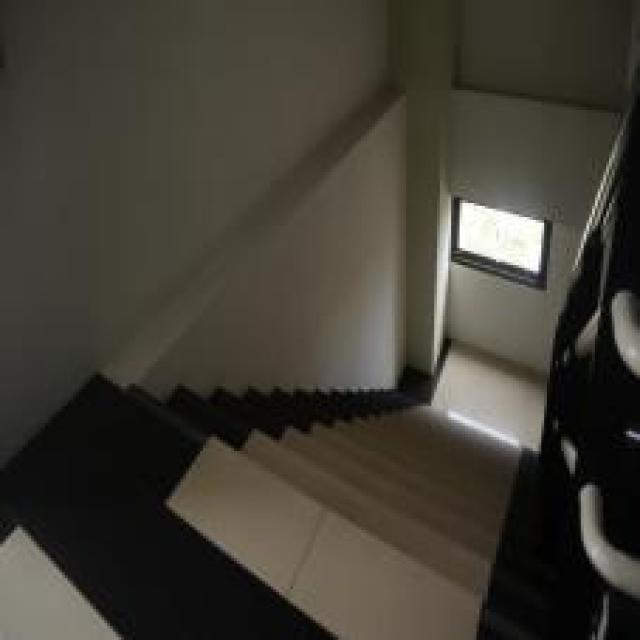downstair: (170, 382, 557, 638)
